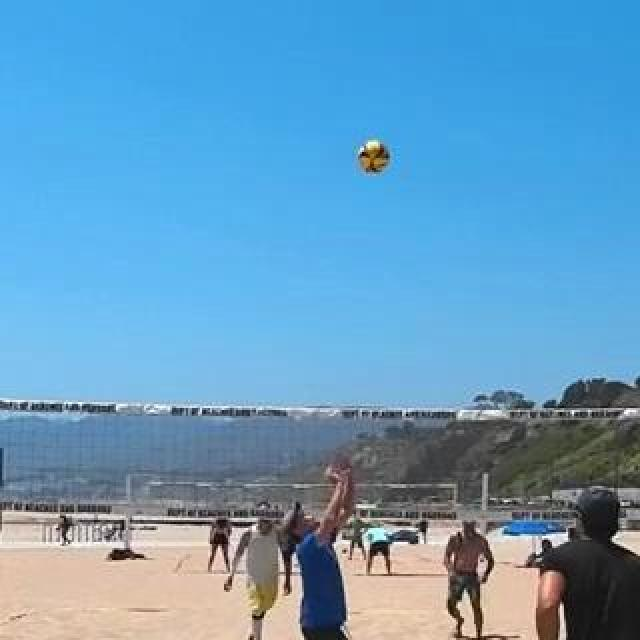volleyball: (359, 143, 391, 173)
